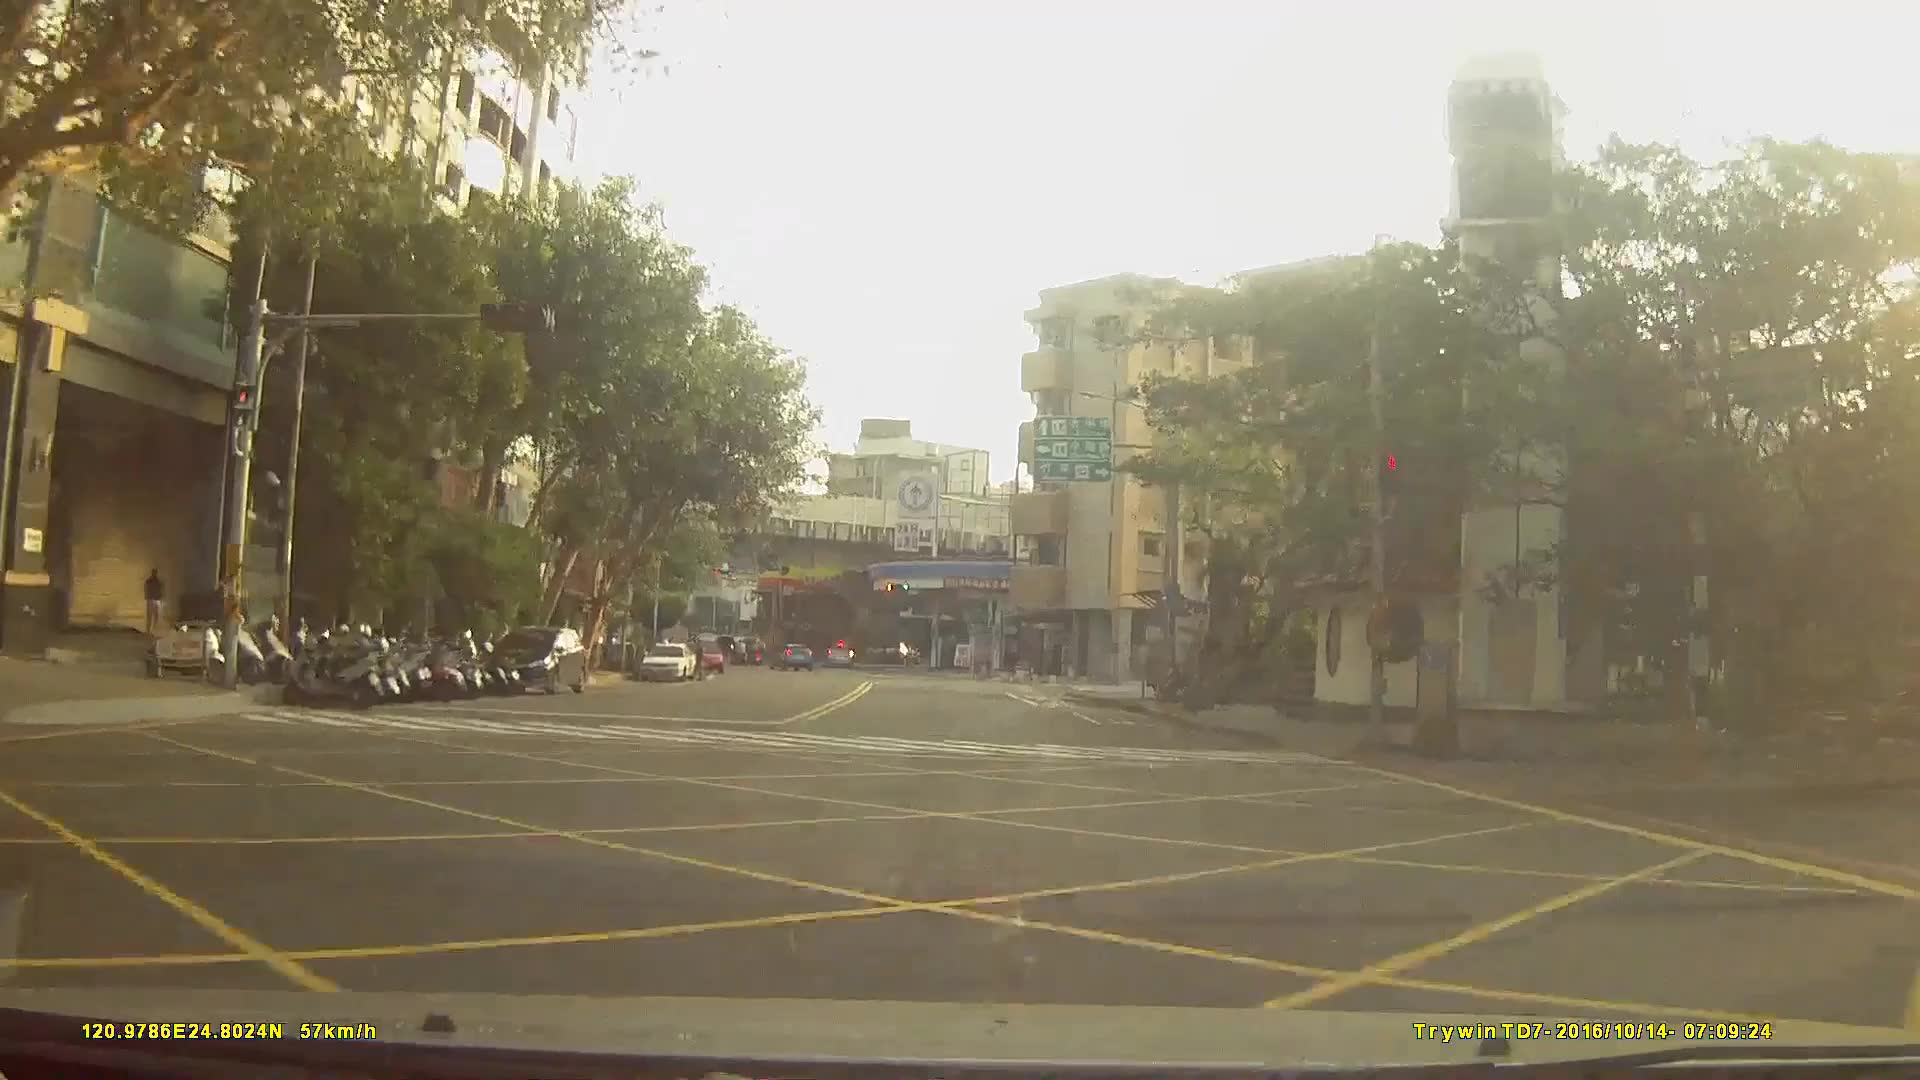pedestrian: (145, 567, 169, 642)
vehicle: (488, 622, 589, 693), (636, 638, 695, 679), (682, 636, 725, 674), (767, 640, 813, 670), (826, 638, 856, 666)
